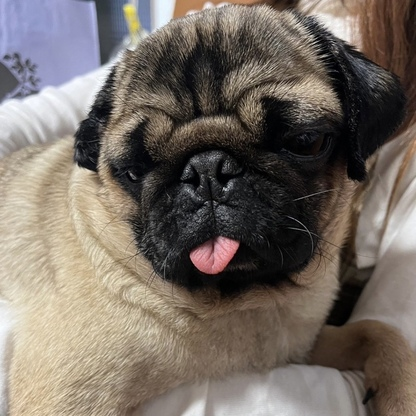Pug: (1, 2, 416, 416)
